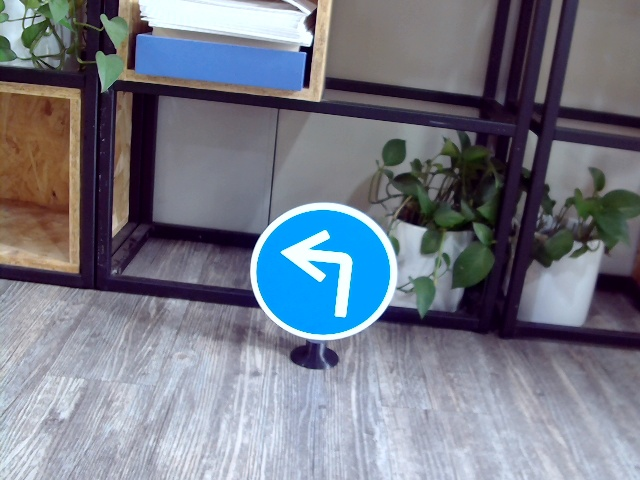turn_left: (280, 224, 362, 321)
